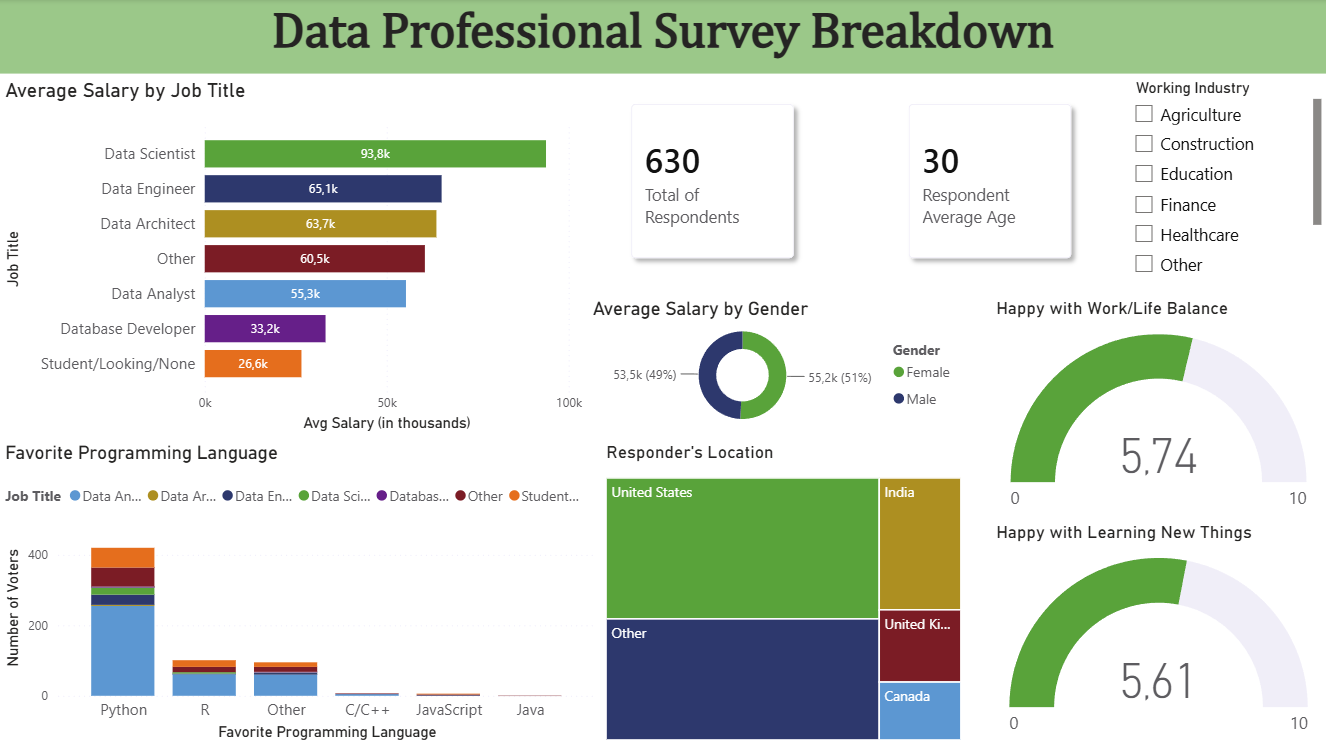

This screenshot's page, from the dashboard's own definition file:
{"tool":"powerbi","page":{"name":"Page 1","canvas":[1280,720],"ordinal":0},"visuals":[{"type":"textbox","box":[0,0,1280,72.4],"z":0},{"type":"cardVisual","fields":{"Data":["Count(Data Professional Survey.Unique ID)"]},"box":[580.3,72.4,216,207.5],"z":1000},{"type":"cardVisual","fields":{"Data":["Avg(Data Professional Survey.Q10 - Current Age)"]},"box":[848.1,72.4,216,207.5],"z":2000},{"type":"barChart","title":"Average Salary by Job Title","fields":{"Category":["Data Professional Survey.Q1 - Which Title Best Fits your Current Role?.1"],"Y":["Avg(Data Professional Survey.Avg Salary)"],"Series":["Data Professional Survey.Q1 - Which Title Best Fits your Current Role?.1"]},"box":[0,72.4,567,349.9],"z":3000},{"type":"columnChart","title":"Favorite Programming Language","fields":{"Category":["Data Professional Survey.Q5 - Favorite Programming Language.1"],"Y":["Count(Data Professional Survey.Unique ID)"],"Series":["Data Professional Survey.Q1 - Which Title Best Fits your Current Role?.1"]},"box":[0,422.3,580.3,298],"z":4000},{"type":"treemap","title":"Responder''s Location","fields":{"Values":["Count(Data Professional Survey.Unique ID)"],"Group":["Data Professional Survey.Q11 - Which Country do you live in?.1"]},"box":[580.3,422.3,352.3,298],"z":5000},{"type":"slicer","fields":{"Values":["Data Professional Survey.Q4 - What Industry do you work in?.1"]},"box":[1083.4,72.4,196.6,207.5],"z":6000},{"type":"gauge","title":"Happy with Work/Life Balance","fields":{"Y":["Avg(Data Professional Survey.Q6 - How Happy are you in your Current Position with the following? (Work/Life Balance))"],"MinValue":["Min(Data Professional Survey.Q6 - How Happy are you in your Current Position with the following? (Work/Life Balance))"],"MaxValue":["Max(Data Professional Survey.Q6 - How Happy are you in your Current Position with the following? (Work/Life Balance))"]},"box":[956.7,283.5,323.3,219.6],"z":7000},{"type":"gauge","title":"Happy with Learning New Things","fields":{"Y":["Avg(Data Professional Survey.Q6 - How Happy are you in your Current Position with the following? (Learning New Things))"],"MinValue":["Min(Data Professional Survey.Q6 - How Happy are you in your Current Position with the following? (Learning New Things))1"],"MaxValue":["Max(Data Professional Survey.Q6 - How Happy are you in your Current Position with the following? (Learning New Things))2"]},"box":[956.7,499.5,323.3,220.8],"z":8000},{"type":"donutChart","title":"Average Salary by Gender","fields":{"Category":["Data Professional Survey.Q9 - Male/Female?"],"Y":["Avg(Data Professional Survey.Avg Salary)"]},"box":[567,283.5,365.6,138.7],"z":9000}]}

Visuals, with their boxes in screenshot pixels (x1, y1, x2, y2), scaled from the page's 1280x720 canvas onto the 1326x743 screenshot:
textbox: bbox(0, 0, 1325, 75)
cardVisual - Count(Data Professional Survey.Unique ID): bbox(601, 75, 825, 289)
cardVisual - Avg(Data Professional Survey.Q10 - Current Age): bbox(879, 75, 1102, 289)
"Average Salary by Job Title" barChart: bbox(0, 75, 587, 436)
"Favorite Programming Language" columnChart: bbox(0, 436, 601, 742)
"Responder''s Location" treemap: bbox(601, 436, 966, 742)
slicer - Data Professional Survey.Q4 - What Industry do you work in?.1: bbox(1122, 75, 1325, 289)
"Happy with Work/Life Balance" gauge: bbox(991, 293, 1325, 519)
"Happy with Learning New Things" gauge: bbox(991, 515, 1325, 742)
"Average Salary by Gender" donutChart: bbox(587, 293, 966, 436)
